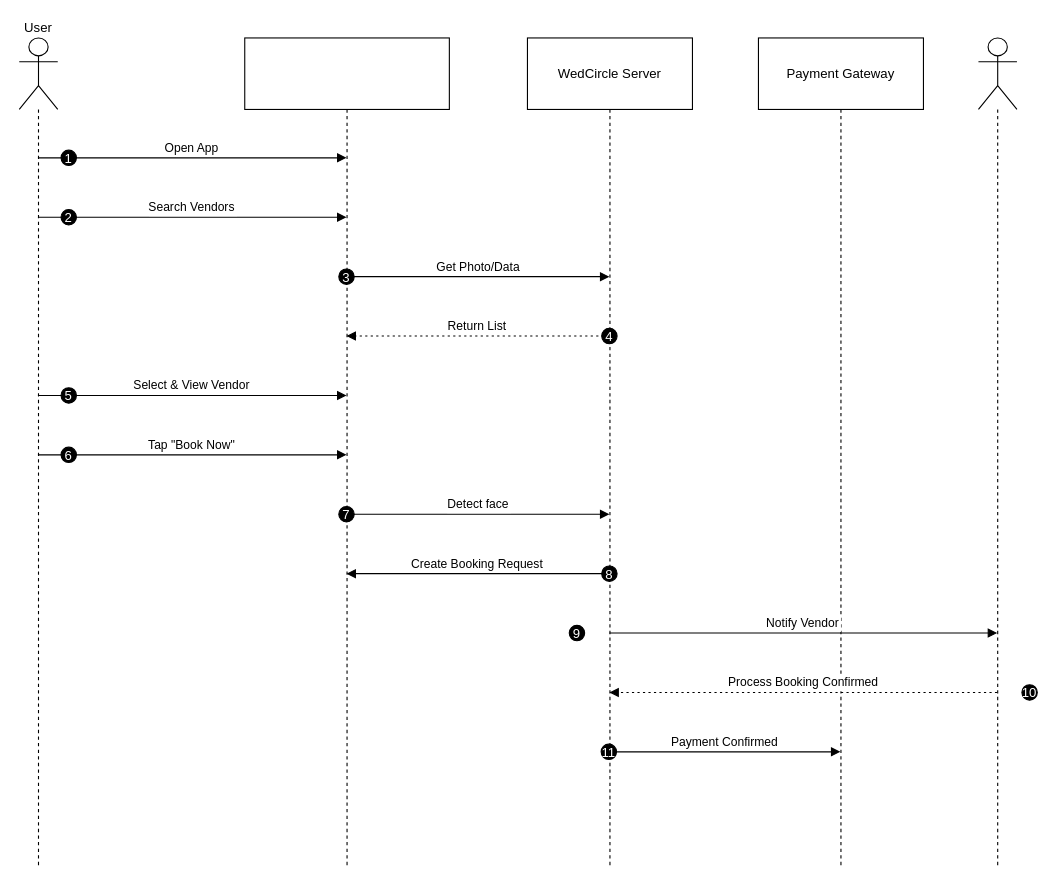
Some shapes in this 1057 by 887 pixel diagram are drawn without their labels. The shapes that lost their labels are listed below. From the top down, each one's box as (x1, y1, x2, y2) in pixels, then its label:
(244, 37, 449, 867): WedCircle App (Device)
(977, 37, 1017, 867): Vendor
